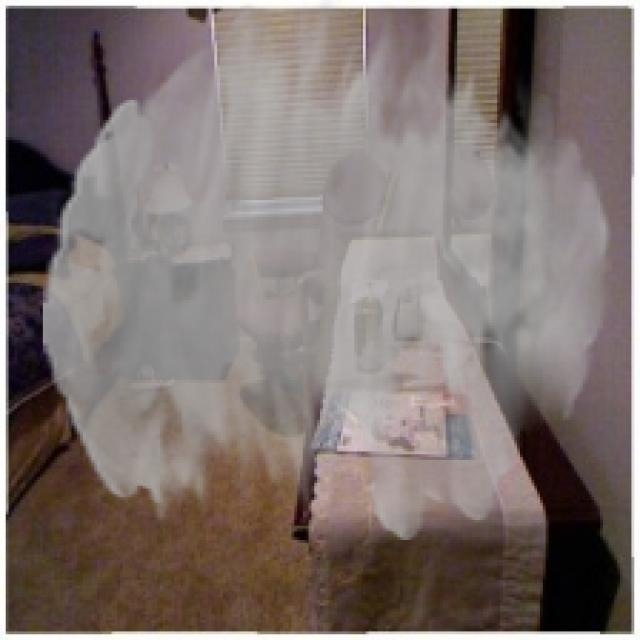Smoke: (43, 0, 612, 540)
